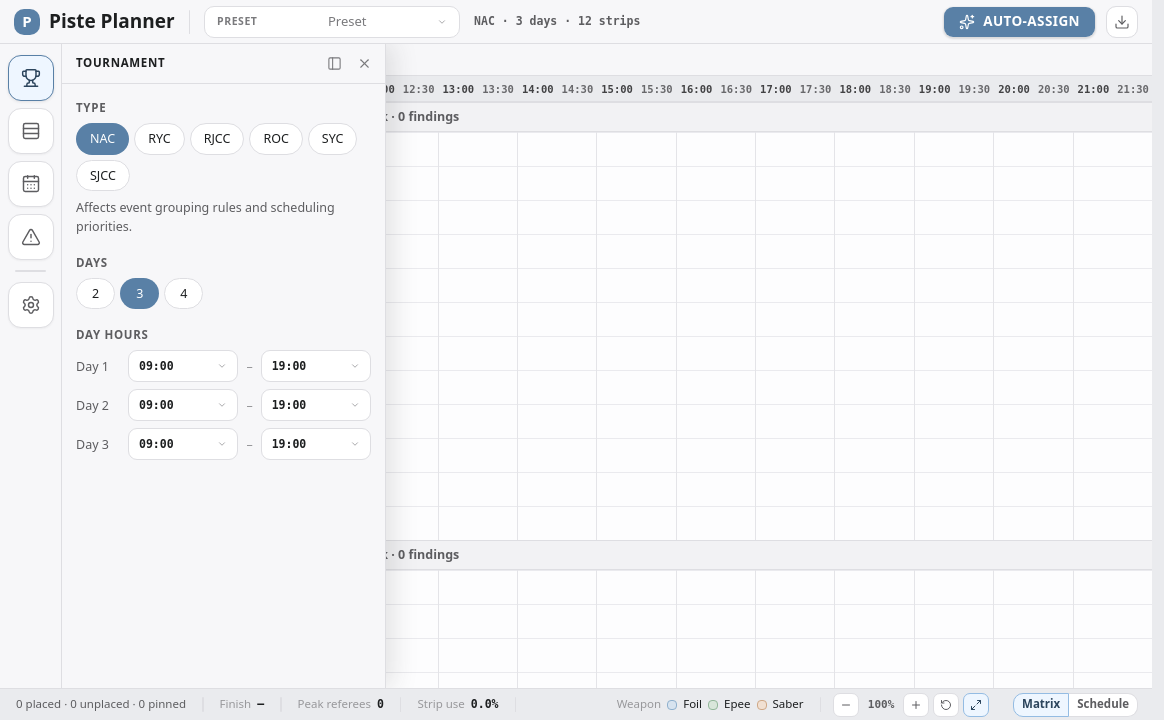
Test: WorkbenchShell single source of type, days and strips › mounts exactly one "Number of strips" spinbutton, inside the inspector panel, once Strips & referees opens
Click the button named "Strips & referees".
click(30, 131)  # box 8,108 -> 54,154
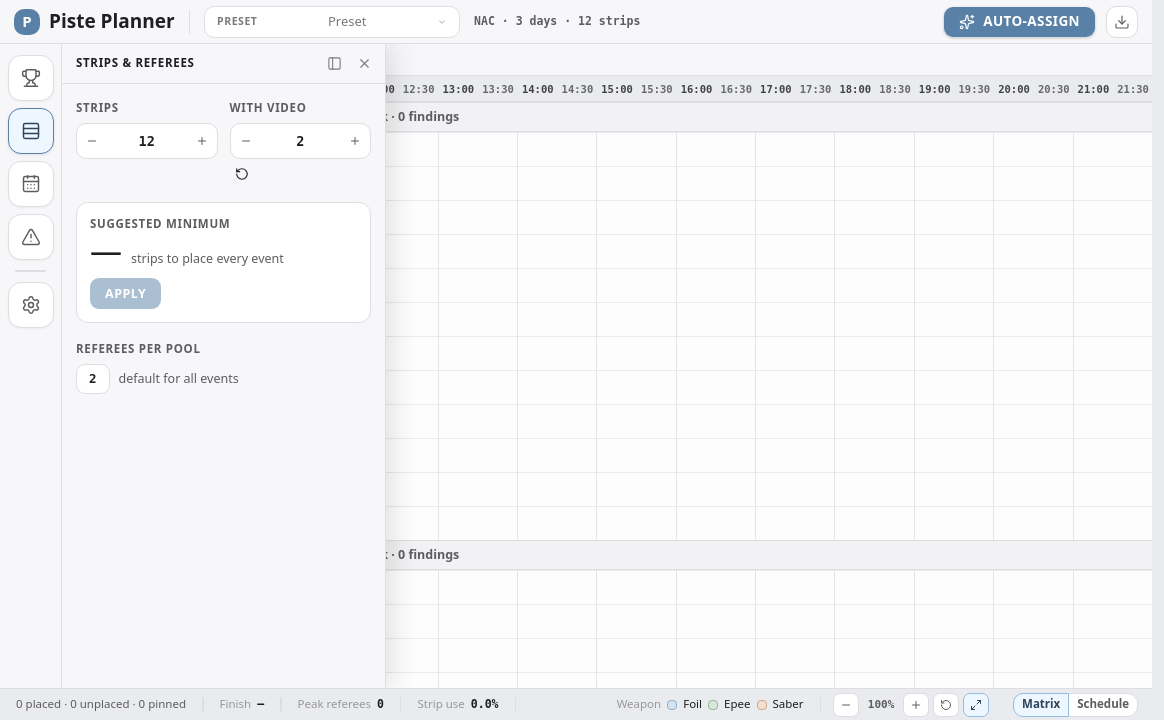
expect the number of number fields named "Number of strips" is 1: met, box 107,124 -> 186,158
